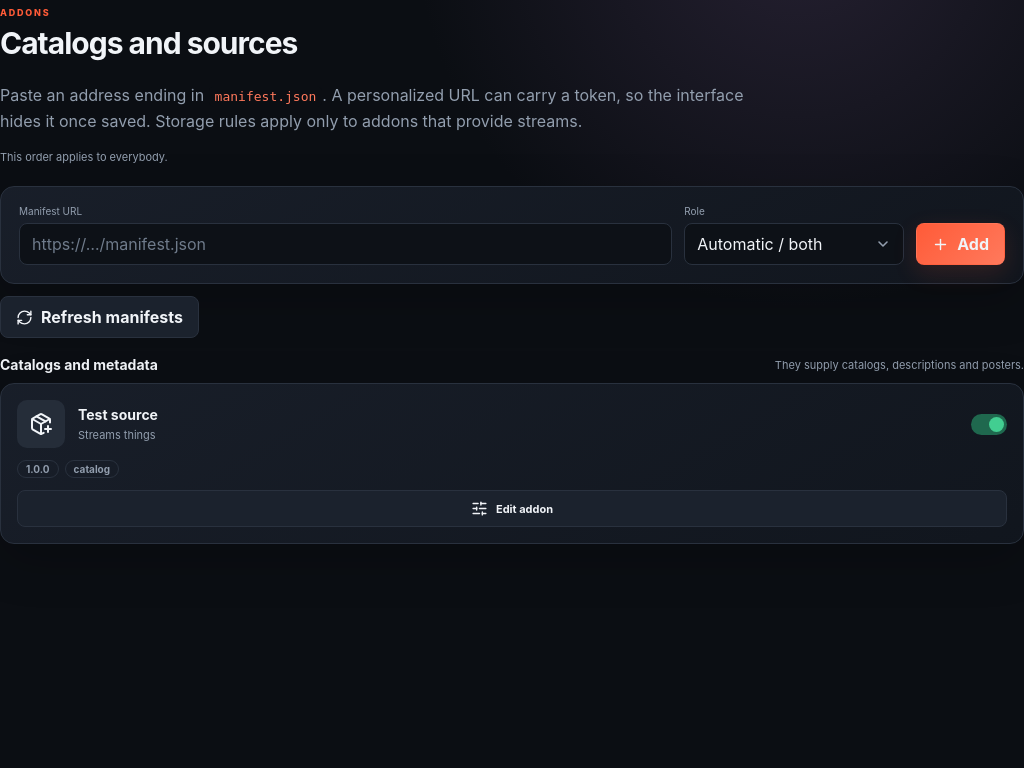
Scenario: a catalogue addon has the switches but no storage rules
Click the button "Edit addon".
click(512, 509)  # box [17,490,1007,527]
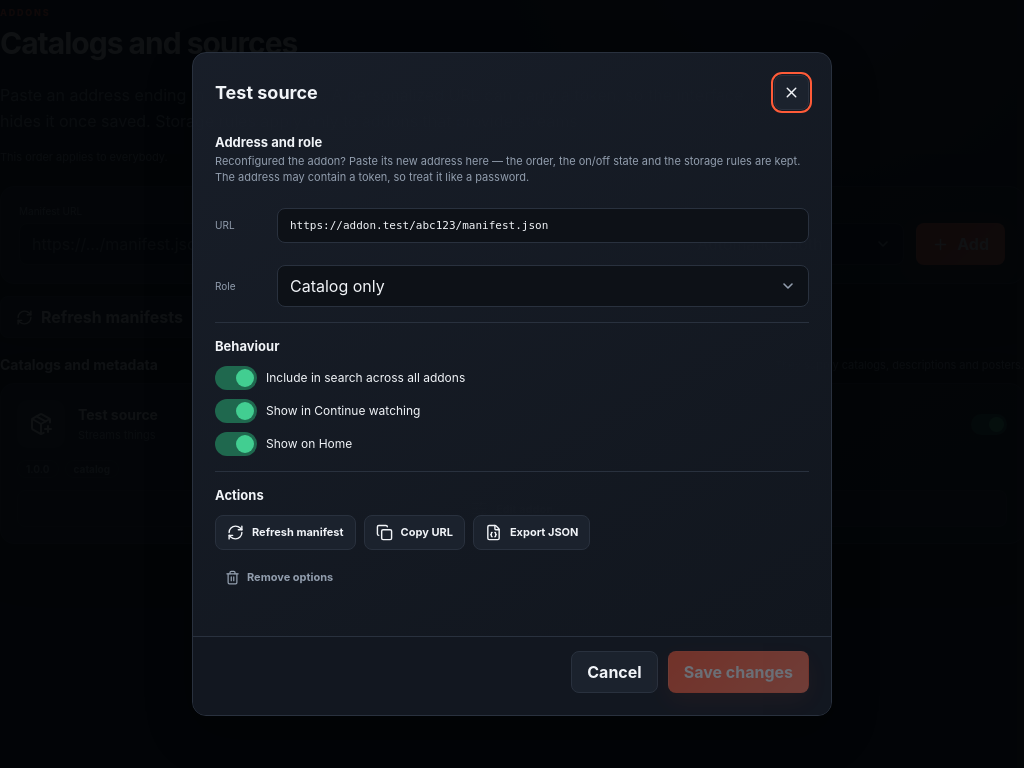
Now the text "Behaviour" is shown, box [215,338,280,354]
